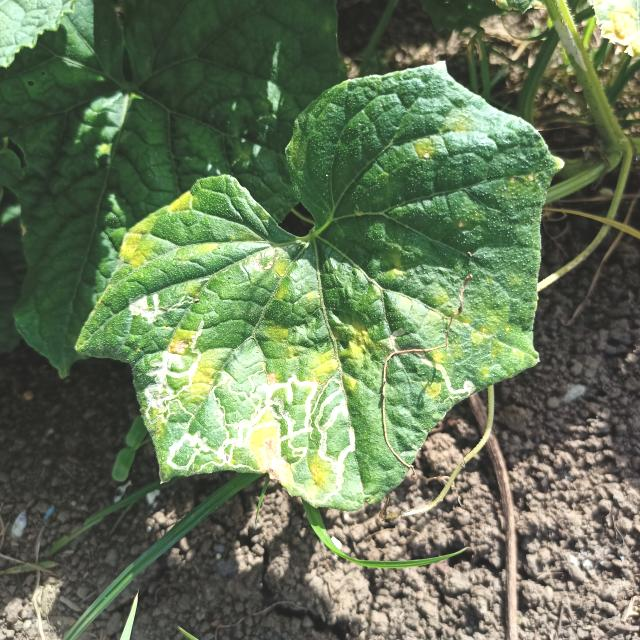disease_cucumber: (138, 257, 374, 503), (373, 277, 504, 401), (114, 188, 219, 272), (412, 113, 470, 161)
